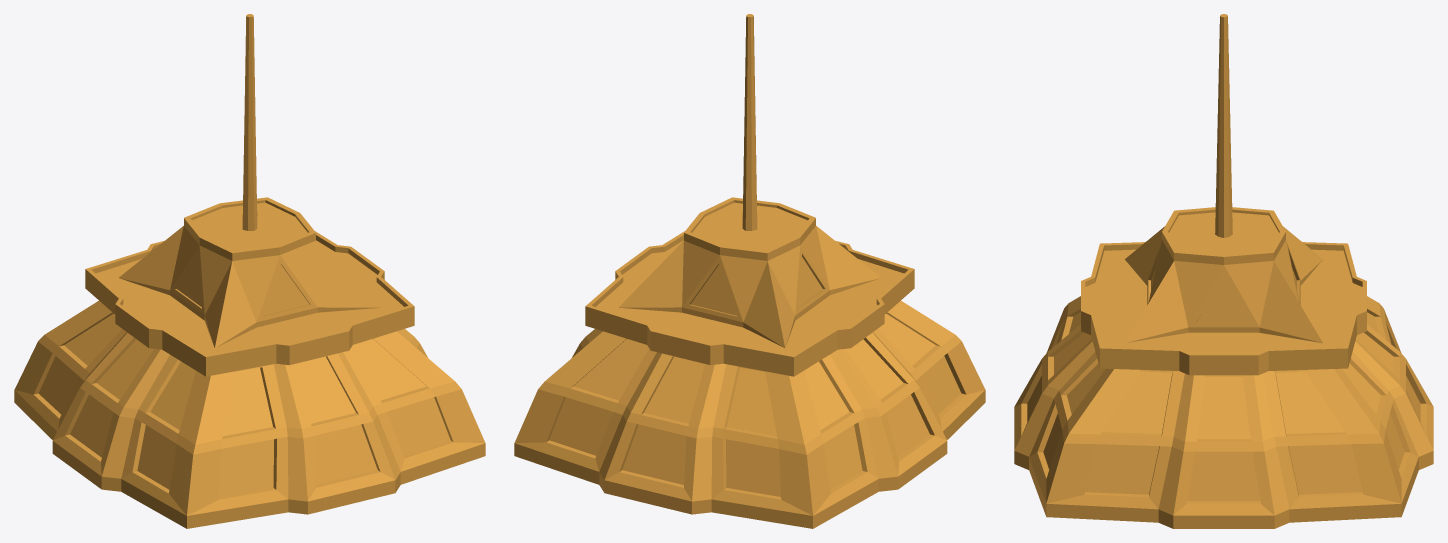
File: skyscraper2-part-top.fbx
3 renders of one model, left to right at view 1: azimuth 30°, elevation 25°; view 2: azimuth 150°, elevation 25°; view 3: azimuth 270°, elevation 25°, orthographic. The views are drawn at different scales.
Parts seen in each view (by area): view 1: skyscraper2-part-top; view 2: skyscraper2-part-top; view 3: skyscraper2-part-top.
Boxes of the visible parts, <box> form: skyscraper2-part-top: <box>14,14,485,528</box>; skyscraper2-part-top: <box>514,14,985,528</box>; skyscraper2-part-top: <box>1014,14,1433,528</box>.
Bounding box in the file's own units: 13.92 × 15.92 × 14.19.
